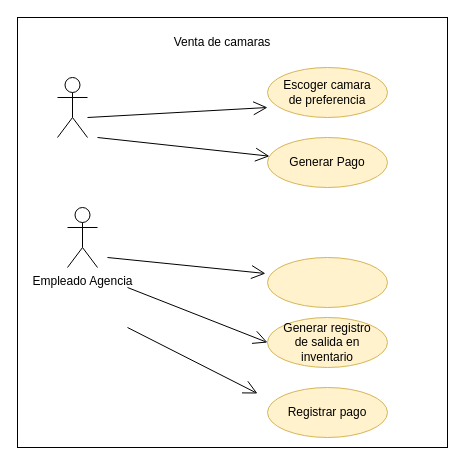
Some shapes in this 465 by 465 pixel diagram are drawn without their labels. Each missing label, with the centre of its shape:
"Cliente" goes at pixel 72 107.
"Verificar disponibilidad" goes at pixel 327 282.
